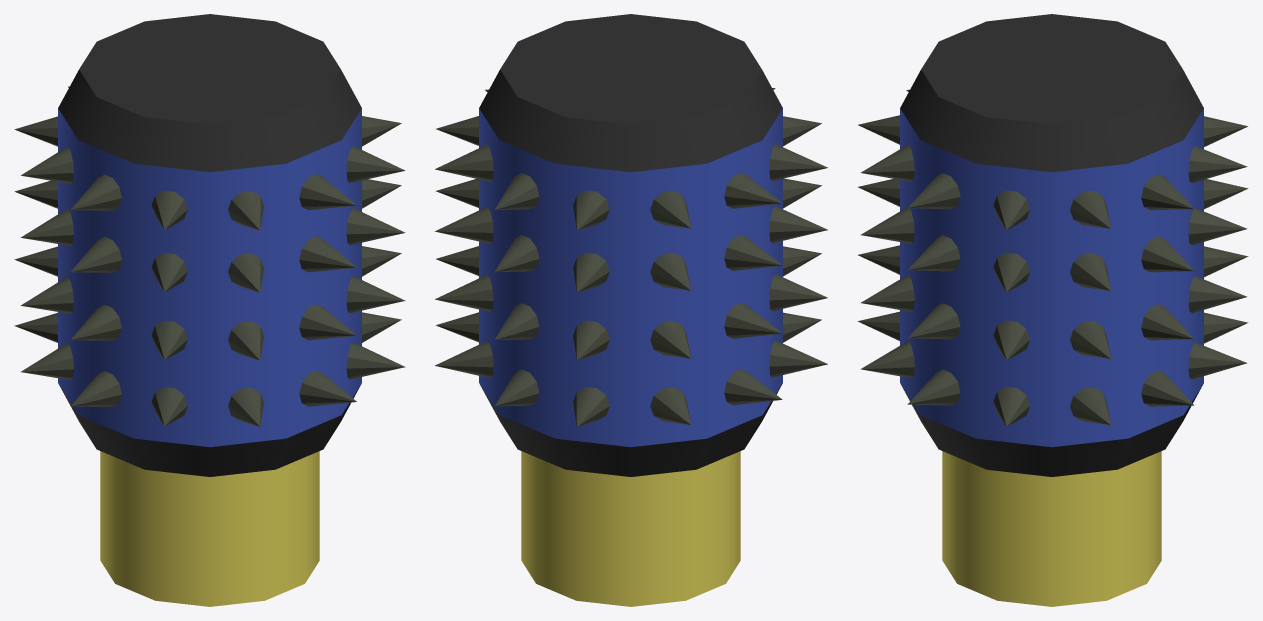
The model's file is Thorn_Trap.fbx.
The picture shows the model from 3 angles, left to right: view 1: azimuth 30°, elevation 25°; view 2: azimuth 150°, elevation 25°; view 3: azimuth 270°, elevation 25°; orthographic projection.
Visible parts, largest first — view 1: Thorn Trap; view 2: Thorn Trap; view 3: Thorn Trap.
Boxes of the visible parts, box(x1,y1,x2,y2) form: Thorn Trap: box(14, 14, 405, 606); Thorn Trap: box(434, 14, 827, 606); Thorn Trap: box(857, 14, 1248, 606).
Bounding box in the file's own units: 112 × 155 × 112.
